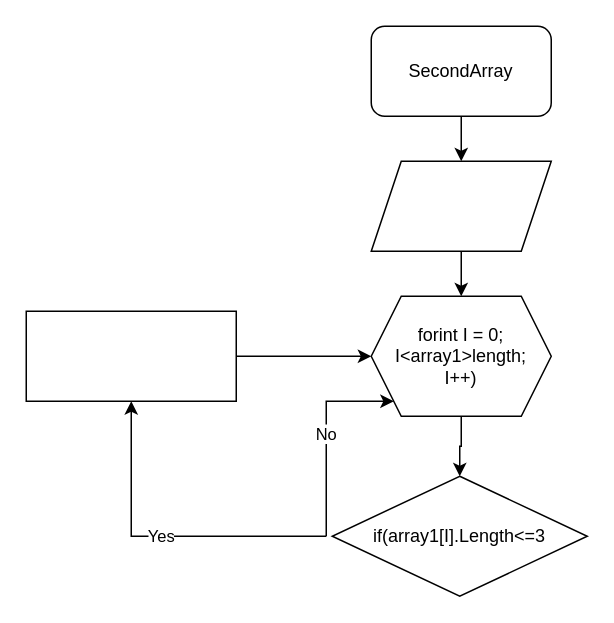
This 614x623 diagram has some shape labels left out. Each missing label, with the box of its shape:
array2[count]=array1[I] count++: (25, 310, 236, 401)
string[] array1 string[] array2 int count = 0: (370, 160, 551, 251)
